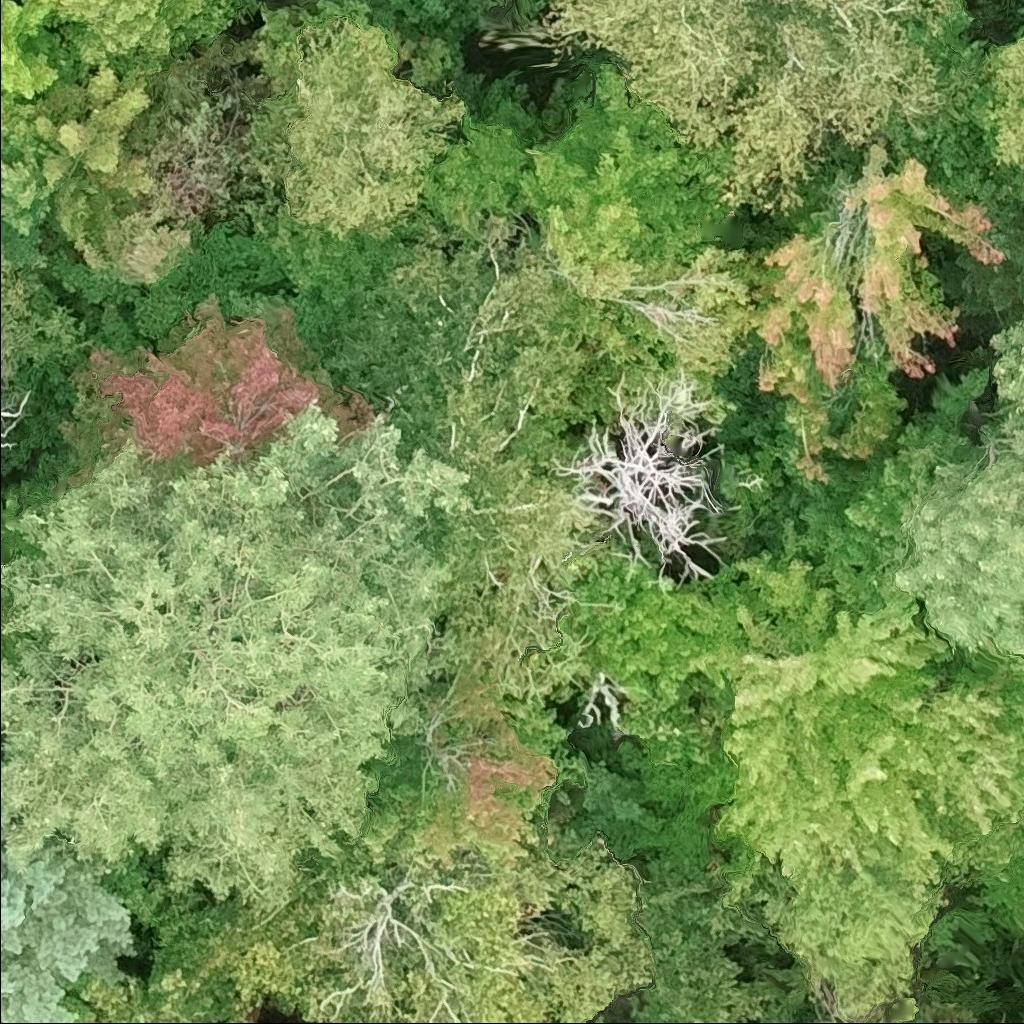crown: (0, 401, 476, 909), (694, 517, 1023, 882), (543, 0, 961, 215), (749, 142, 1010, 485), (418, 57, 729, 309), (58, 289, 388, 490), (351, 832, 670, 1023), (243, 0, 473, 241), (795, 363, 989, 611), (350, 661, 569, 870), (893, 309, 1023, 658), (547, 366, 733, 585), (754, 857, 944, 1021), (0, 821, 141, 1023), (565, 551, 739, 706), (31, 62, 158, 240), (225, 903, 376, 1023), (47, 0, 240, 82), (924, 217, 1023, 324), (971, 37, 1023, 172), (0, 0, 71, 98), (0, 250, 29, 355), (0, 637, 13, 655), (0, 593, 3, 615), (1004, 1020, 1023, 1023)
